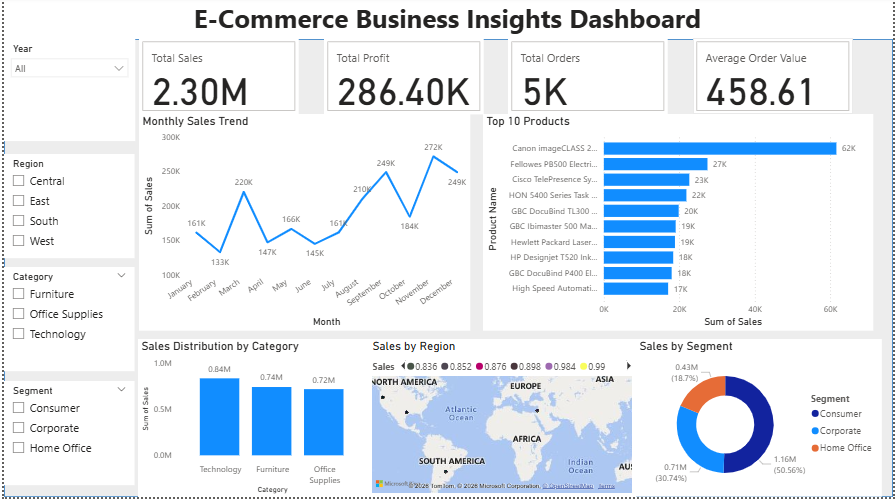

Layout of this report page (visuals, bound fields, positions):
{"tool":"powerbi","page":{"name":"Page 1","canvas":[1280,720],"ordinal":0},"visuals":[{"type":"shape","box":[0,59.8,1280,659.7],"z":0},{"type":"slicer","fields":{"Values":["Sample - Superstore.Region"]},"box":[0,225.4,188.4,149.7],"z":1000},{"type":"slicer","fields":{"Values":["Sample - Superstore.Category"]},"box":[0,389.1,188.4,149.7],"z":2000},{"type":"slicer","fields":{"Values":["Sample - Superstore.Segment"]},"box":[0,552.8,188.4,149.7],"z":3000},{"type":"cardVisual","fields":{"Data":["Sample - Superstore.Total Sales"]},"box":[194.4,59,230,110],"z":5000},{"type":"cardVisual","fields":{"Data":["Sample - Superstore.Total Profit"]},"box":[460.3,59,230,110],"z":6000},{"type":"cardVisual","fields":{"Data":["Sample - Superstore.Total Orders"]},"box":[726.2,59,230,110],"z":7000},{"type":"cardVisual","fields":{"Data":["Sample - Superstore.Average Order Value"]},"box":[992.2,59,230,110],"z":8000},{"type":"columnChart","title":"Sales Distribution by Category","fields":{"Category":["Sample - Superstore.Category"],"Y":["Sum(Sample - Superstore.Sales)"]},"box":[193,492.5,334.1,227.5],"z":9000},{"type":"clusteredBarChart","title":"Top 10 Products","fields":{"Category":["Sample - Superstore.Product Name"],"Y":["Sum(Sample - Superstore.Sales)"]},"box":[690.2,169,561.7,311.6],"z":10000},{"type":"map","title":"Sales by Region","fields":{"Category":["Sample - Superstore.Region"],"Series":["Sample - Superstore.Sales"]},"box":[525.6,492.5,384.5,227.5],"z":11000},{"type":"lineChart","title":"Monthly Sales Trend","fields":{"Category":["Sample - Superstore.Order Date.Variation.Date Hierarchy.Month"],"Y":["Sum(Sample - Superstore.Sales)"]},"box":[194.4,168.5,476.6,312.5],"z":12000},{"type":"donutChart","title":"Sales by Segment","fields":{"Category":["Sample - Superstore.Segment"],"Y":["Sum(Sample - Superstore.Sales)"]},"box":[910.3,493,353.9,227.1],"z":13000},{"type":"textbox","box":[210,0,856.7,58.8],"z":14000},{"type":"slicer","fields":{"Values":["Sample - Superstore.Order Date.Variation.Date Hierarchy.Year"]},"box":[0,60.5,188.6,146.9],"z":14001}]}

Visuals, with their boxes in screenshot pixels (x1, y1, x2, y2), scaled from the page's 1280x720 canvas onto the 895x499 screenshot:
shape: [x1=0, y1=41, x2=894, y2=498]
slicer - Sample - Superstore.Region: [x1=0, y1=156, x2=132, y2=260]
slicer - Sample - Superstore.Category: [x1=0, y1=270, x2=132, y2=373]
slicer - Sample - Superstore.Segment: [x1=0, y1=383, x2=132, y2=487]
cardVisual - Sample - Superstore.Total Sales: [x1=136, y1=41, x2=297, y2=117]
cardVisual - Sample - Superstore.Total Profit: [x1=322, y1=41, x2=483, y2=117]
cardVisual - Sample - Superstore.Total Orders: [x1=508, y1=41, x2=669, y2=117]
cardVisual - Sample - Superstore.Average Order Value: [x1=694, y1=41, x2=855, y2=117]
"Sales Distribution by Category" columnChart: [x1=135, y1=341, x2=369, y2=498]
"Top 10 Products" clusteredBarChart: [x1=483, y1=117, x2=875, y2=333]
"Sales by Region" map: [x1=368, y1=341, x2=636, y2=498]
"Monthly Sales Trend" lineChart: [x1=136, y1=117, x2=469, y2=333]
"Sales by Segment" donutChart: [x1=636, y1=342, x2=884, y2=498]
textbox: [x1=147, y1=0, x2=746, y2=41]
slicer - Sample - Superstore.Order Date.Variation.Date Hierarchy.Year: [x1=0, y1=42, x2=132, y2=144]
